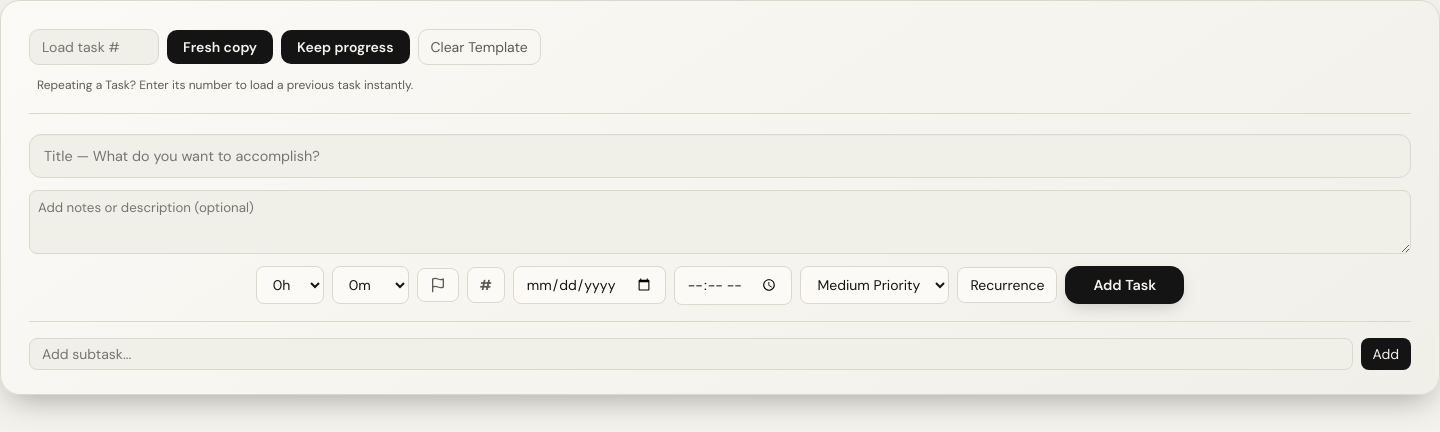
it: Composer type-ahead suggestions › no-progress task: no action buttons — clicking the whole row copies it
Type "Buy" into the dropdown named "Task title" at [720, 156], box [29, 134, 1411, 178]
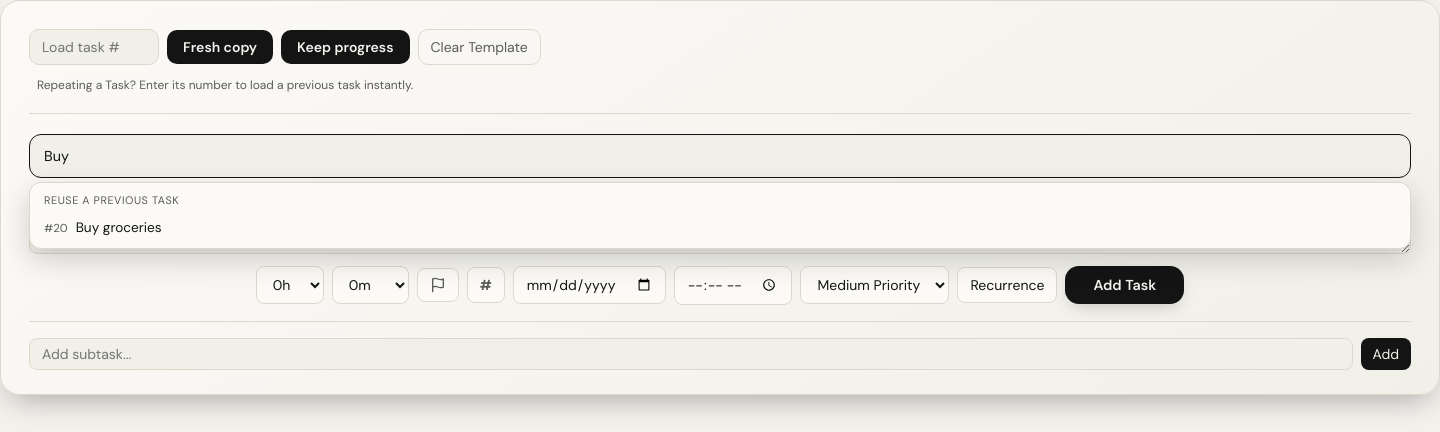
Click the option "#20 Buy groceries" at [103, 228], box [44, 219, 162, 236]
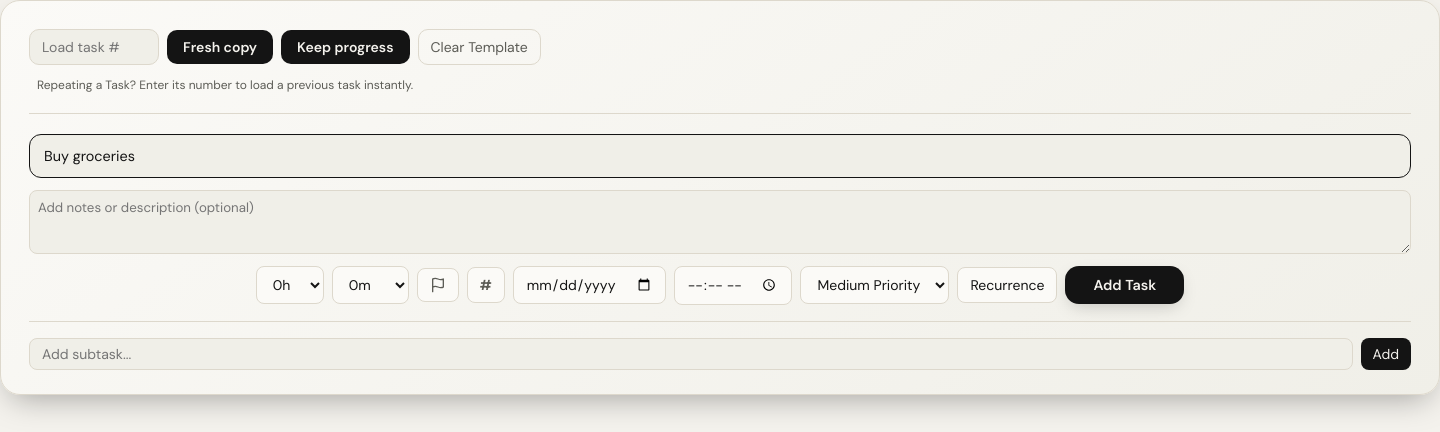
Check: the dropdown named "Task title" holds "Buy groceries", box [29, 134, 1411, 178]
Check: the text "Reuse a previous task" is gone
